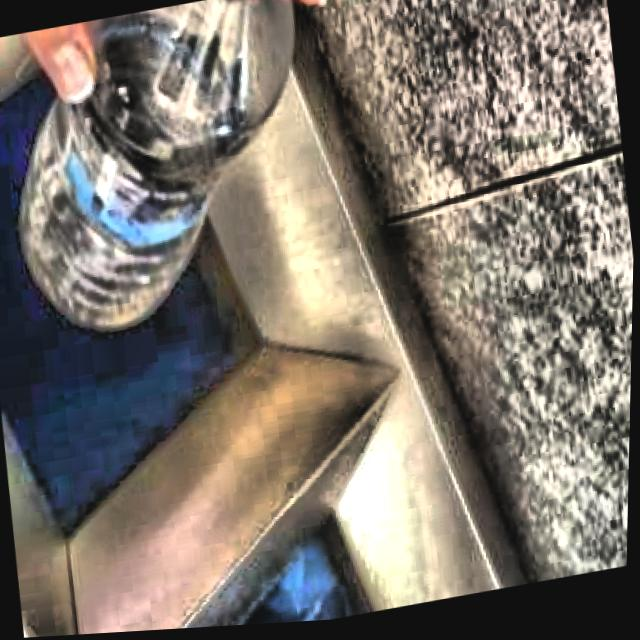plastic: (17, 0, 290, 331)
